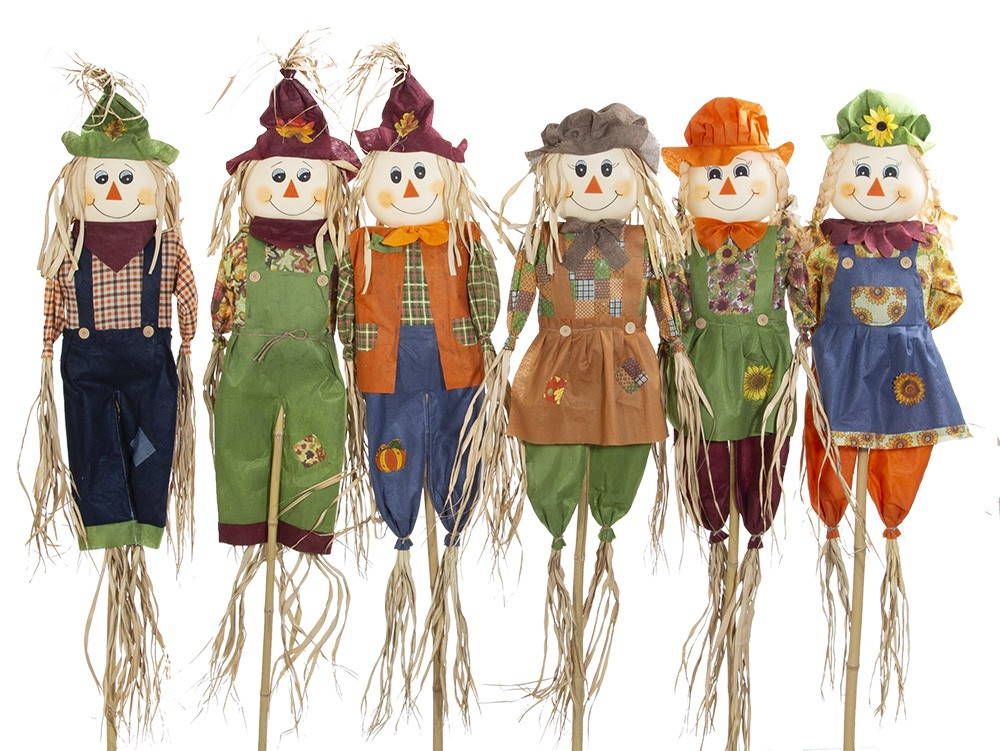person-like: (479, 99, 715, 656), (782, 83, 975, 610), (329, 55, 506, 622), (26, 62, 201, 598), (656, 90, 826, 627), (199, 34, 355, 596)
